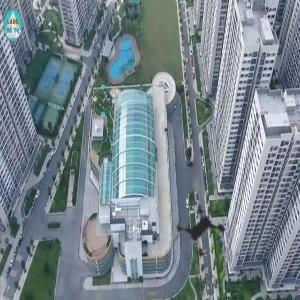drone: (139, 171, 259, 291)
